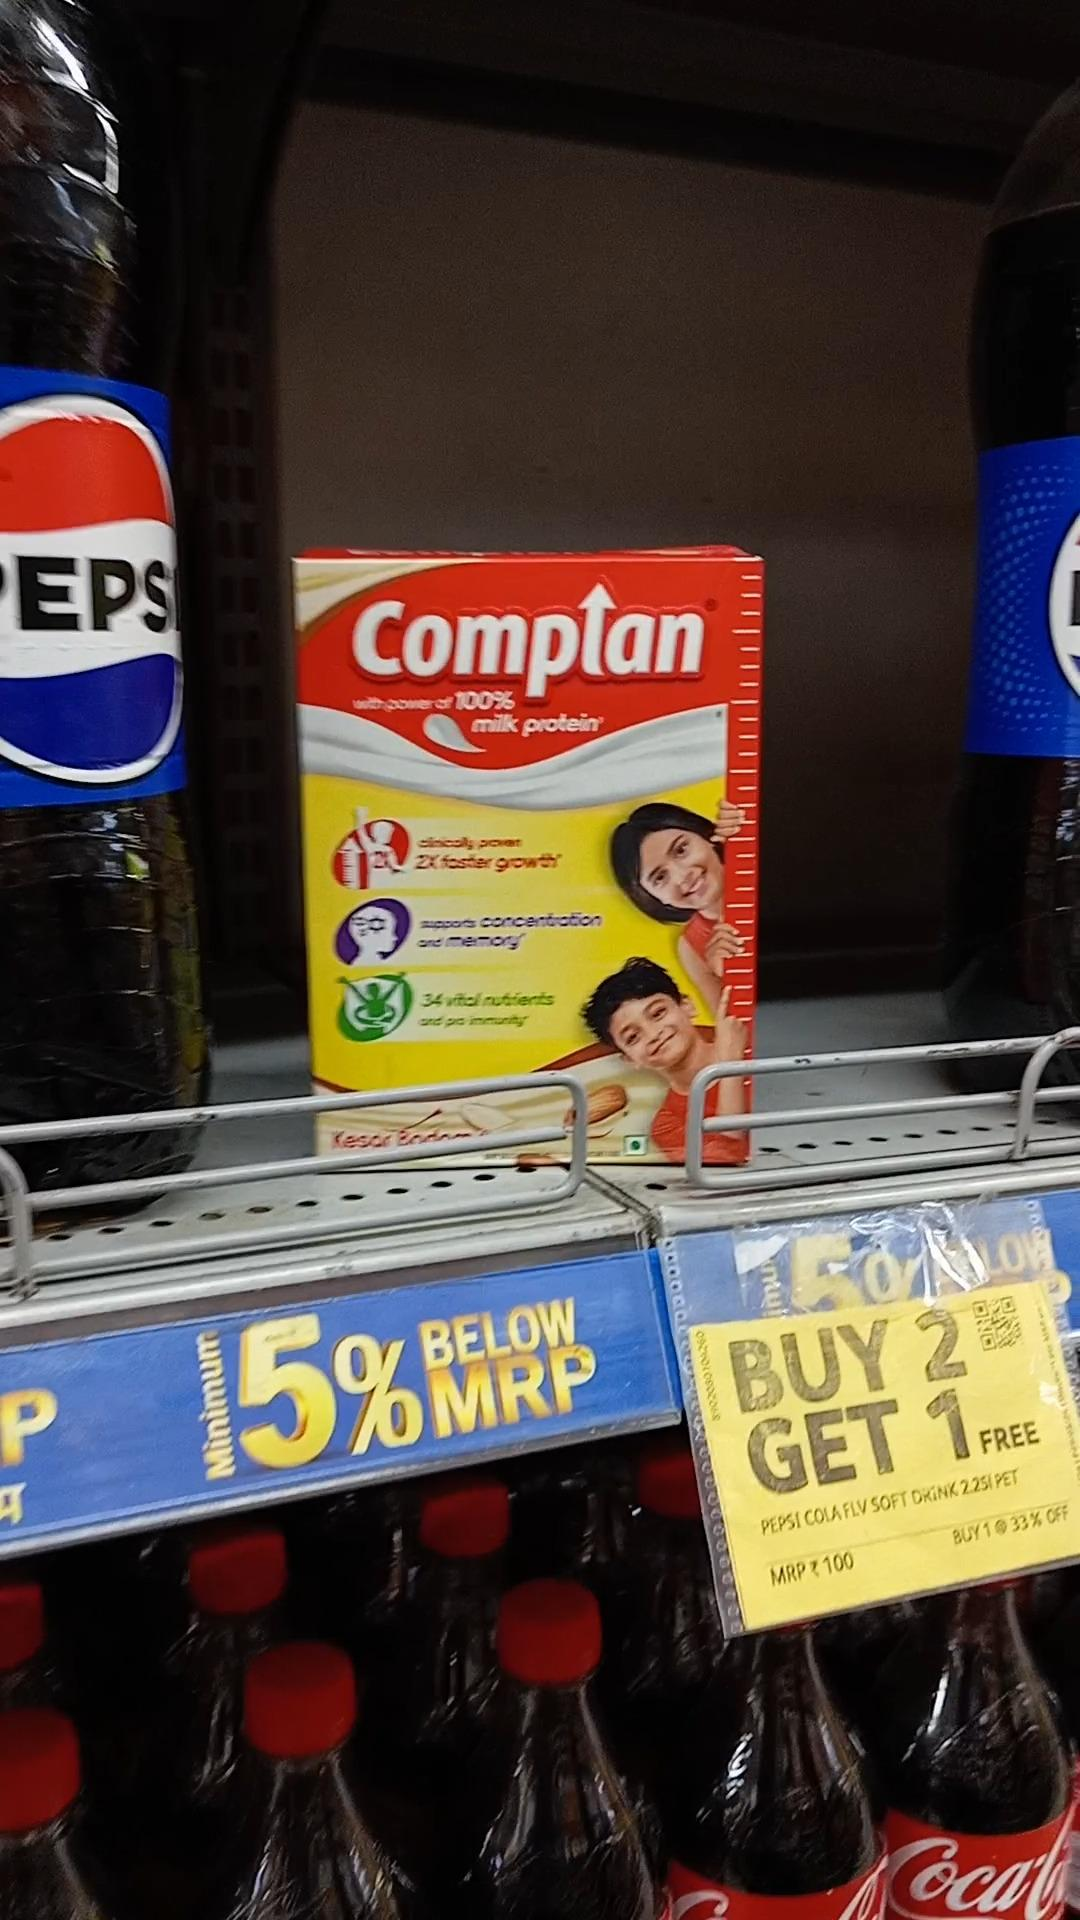COMPLAN_CHOCOLATE_200_GMS_JAR: (307, 559, 742, 1163)
